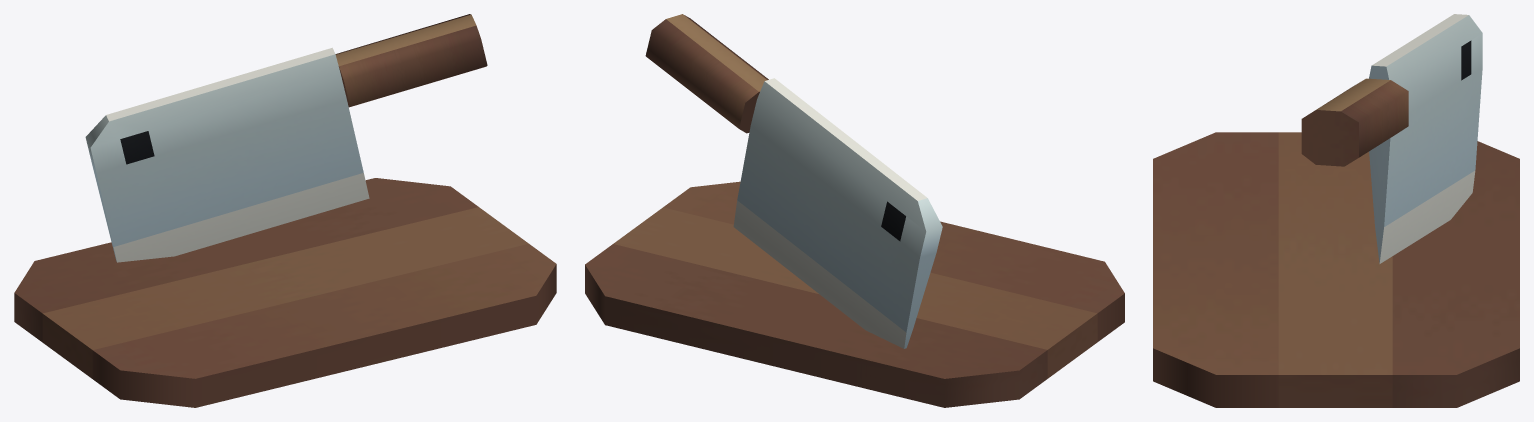
File: cutting_board_wood_cleaver.fbx
3 renders of one model, left to right at view 1: azimuth 30°, elevation 25°; view 2: azimuth 150°, elevation 25°; view 3: azimuth 270°, elevation 25°, orthographic. The views are drawn at different scales.
Visible parts, largest first — view 1: cutting_board_wood_cleaver; view 2: cutting_board_wood_cleaver; view 3: cutting_board_wood_cleaver.
Part boxes in pixels (<box>): cutting_board_wood_cleaver: <box>14,14,556,407</box>; cutting_board_wood_cleaver: <box>585,14,1124,407</box>; cutting_board_wood_cleaver: <box>1153,14,1519,407</box>.
Size of the model in its own units: 68.23 by 36.7 by 43.59.
